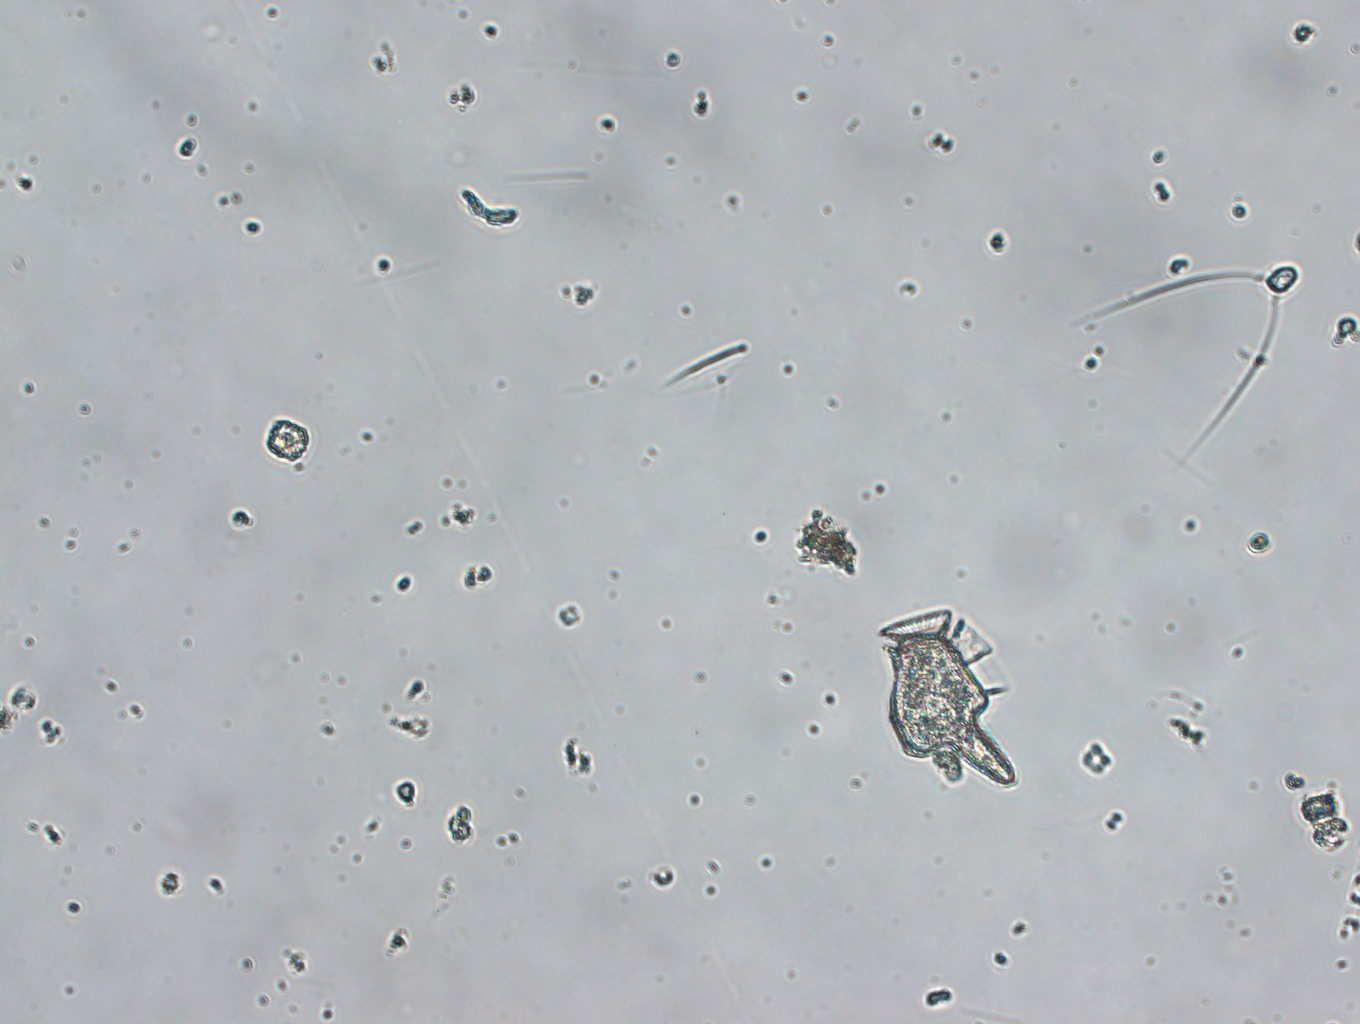dinophysis caudata: (867, 596, 1050, 805)
